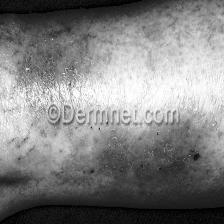Non-Cancerous Skin Condition: (54, 132, 224, 194), (15, 41, 127, 96)
